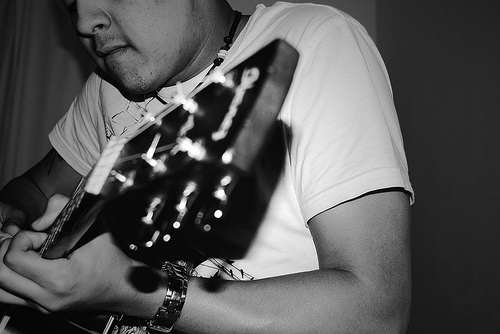guitar: (31, 38, 301, 270)
